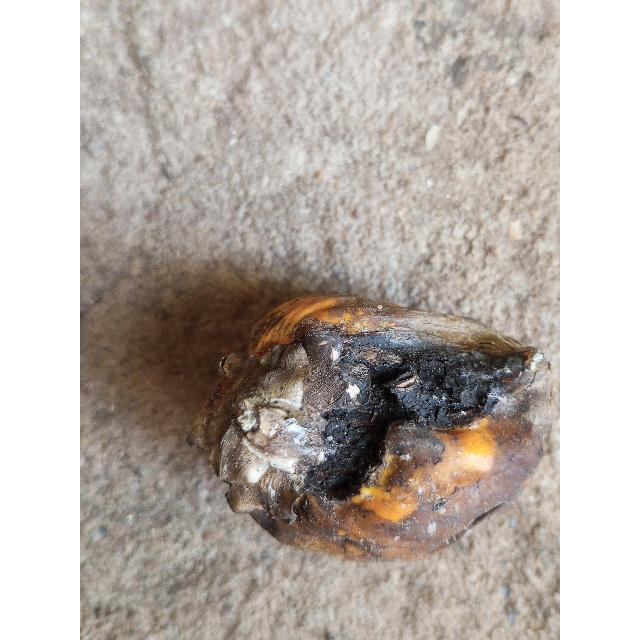damaged: (204, 298, 542, 565)
